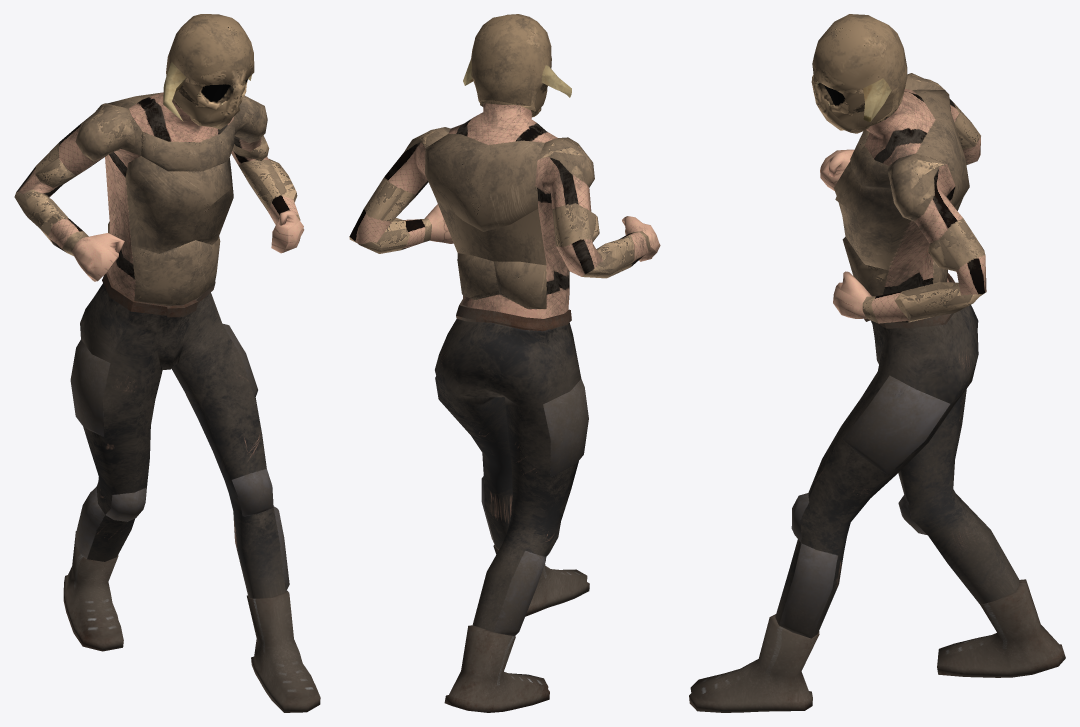
The model's file is Anim_ataque_d2_npc1.0018.obj.
3 views of the same model, side by side, from view 1: azimuth 30°, elevation 25°; view 2: azimuth 150°, elevation 25°; view 3: azimuth 270°, elevation 25° (orthographic). The views are drawn at different scales.
Parts seen in each view (by area): view 1: NPC2; view 2: NPC2; view 3: NPC2.
Part boxes in pixels (x1,y1,x2,y2): NPC2: (14,14,320,712); NPC2: (349,14,660,712); NPC2: (689,14,1065,712).
Bounding box in the file's own units: 3.9 × 9.21 × 4.61.
